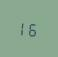one: (19, 19, 27, 36)
six: (28, 19, 36, 37)
